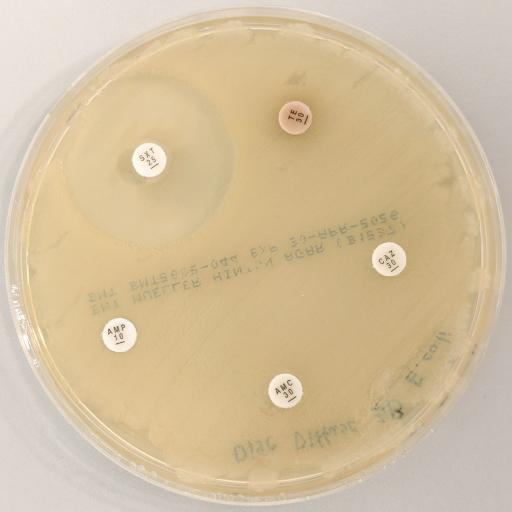disc: (131, 142, 167, 178), (102, 317, 138, 353), (268, 373, 304, 409), (371, 242, 407, 277), (278, 100, 312, 136)
